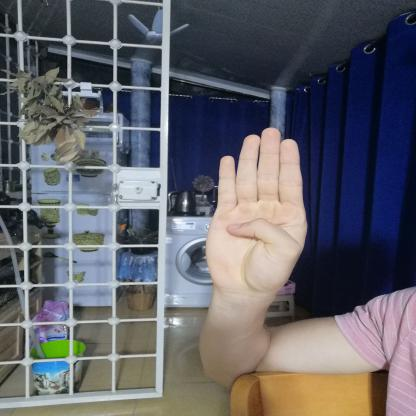KAAF: (195, 118, 315, 307)
